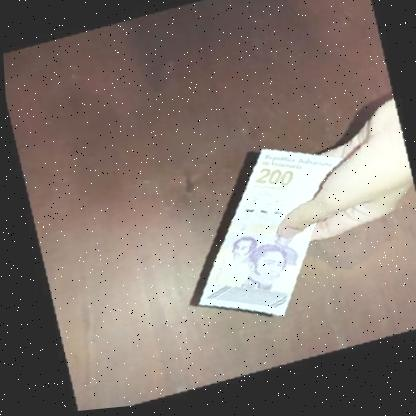two_hundred-front-vef: (179, 142, 355, 334)
